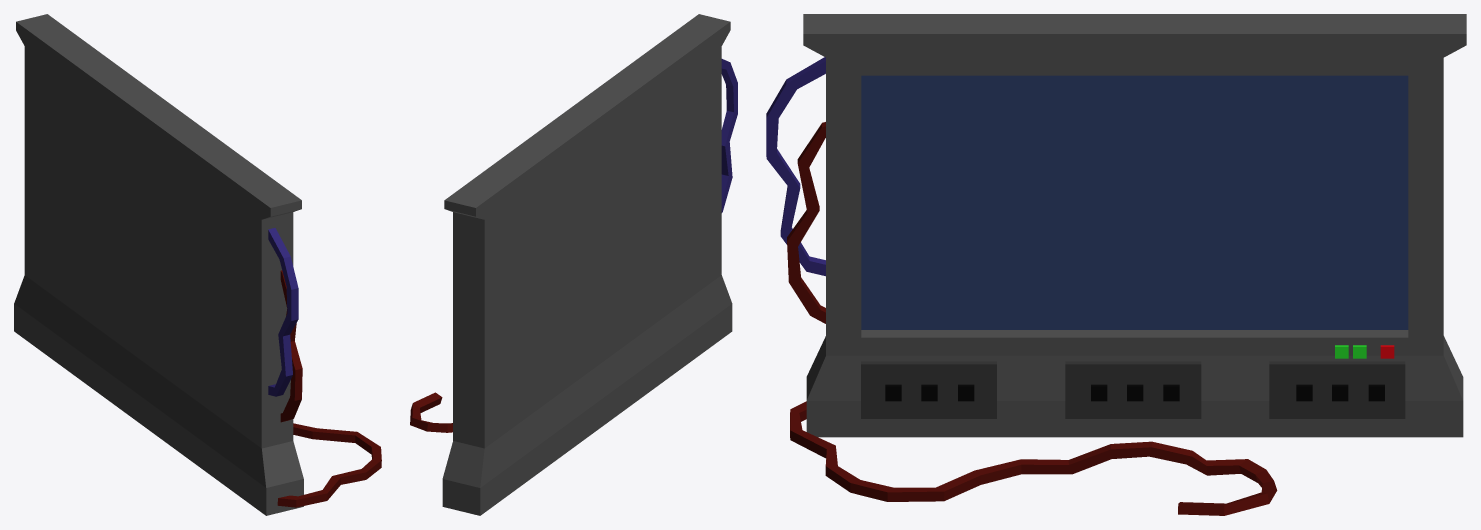
Rendered from Painel-Chao.fbx.
3 views of the same model, side by side, from view 1: azimuth 30°, elevation 25°; view 2: azimuth 150°, elevation 25°; view 3: azimuth 270°, elevation 25° (orthographic). The views are drawn at different scales.
Parts seen in each view (by area): view 1: Cube, Cube.003, Cube.001, Cube.002; view 2: Cube, Cube.001, Cube.003; view 3: Plane, Cube, Cube.004, Cube.003, Cube.001, Cube.002.
Part boxes in pixels (bbox=[...]): Cube: bbox=[14, 14, 303, 515]; Cube.003: bbox=[277, 423, 381, 507]; Cube.001: bbox=[268, 228, 298, 396]; Cube.002: bbox=[280, 270, 302, 422]; Cube: bbox=[442, 14, 732, 515]; Cube.001: bbox=[721, 59, 737, 212]; Cube.003: bbox=[410, 392, 452, 432]; Plane: bbox=[861, 75, 1408, 329]; Cube: bbox=[803, 14, 1466, 437]; Cube.004: bbox=[861, 361, 1405, 418]; Cube.003: bbox=[790, 401, 1277, 515]; Cube.001: bbox=[766, 57, 825, 276]; Cube.002: bbox=[787, 122, 825, 323].
Bounding box in the file's own units: 130 × 241 × 377.
